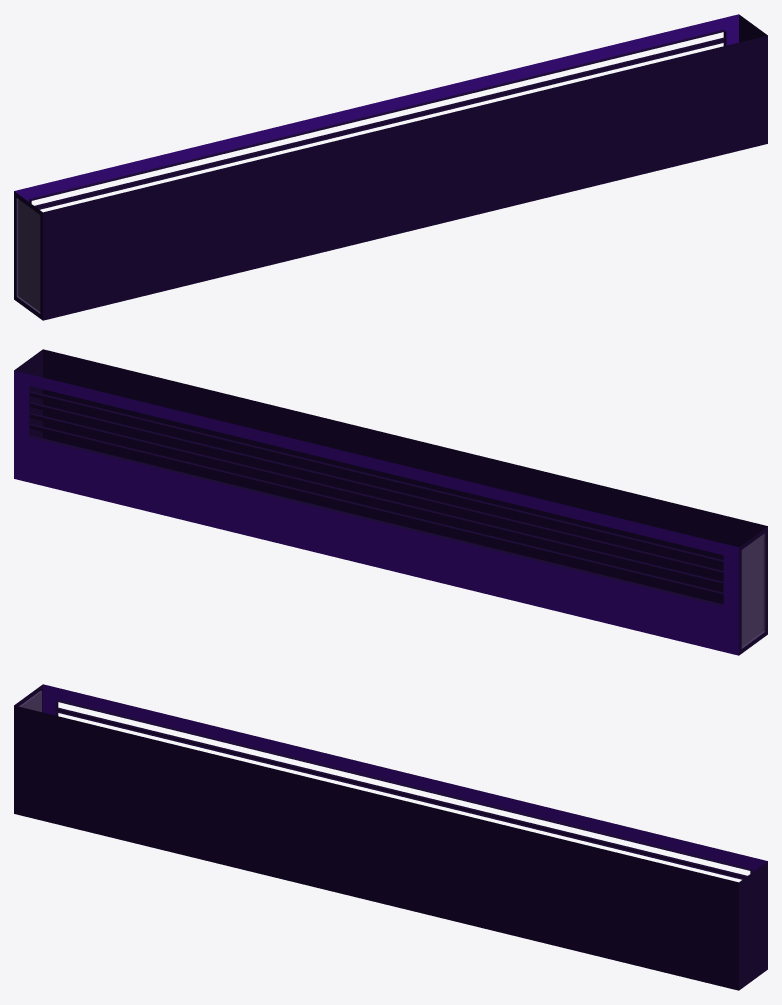
File: RunnablePartLong1.fbx
The picture shows the model from 3 angles, top to bottom: view 1: azimuth 30°, elevation 25°; view 2: azimuth 150°, elevation 25°; view 3: azimuth 330°, elevation 25°; orthographic projection.
Parts seen in each view (by area): view 1: Plane.006; view 2: Plane.006; view 3: Plane.006.
Part boxes in pixels (x1,y1,x2,y2): Plane.006: [14, 14, 767, 320]; Plane.006: [14, 349, 767, 655]; Plane.006: [14, 684, 767, 990].
Bounding box in the file's own units: 14000 × 2000 × 971.
